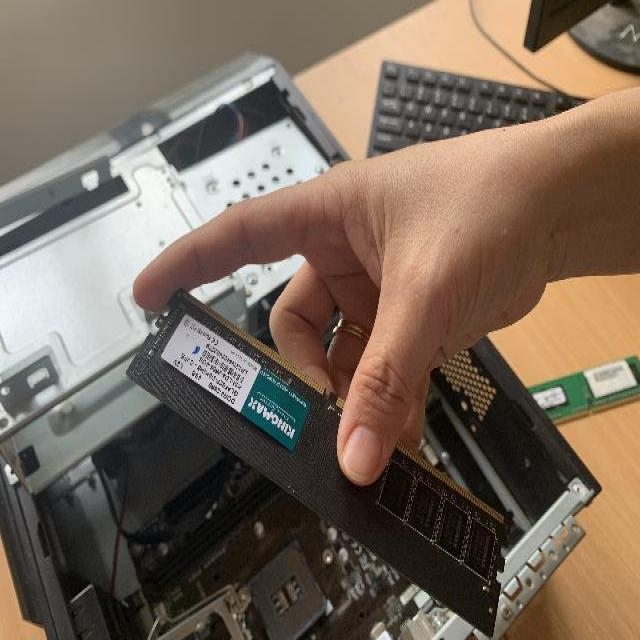RAM: (124, 281, 523, 638), (524, 348, 638, 432)
